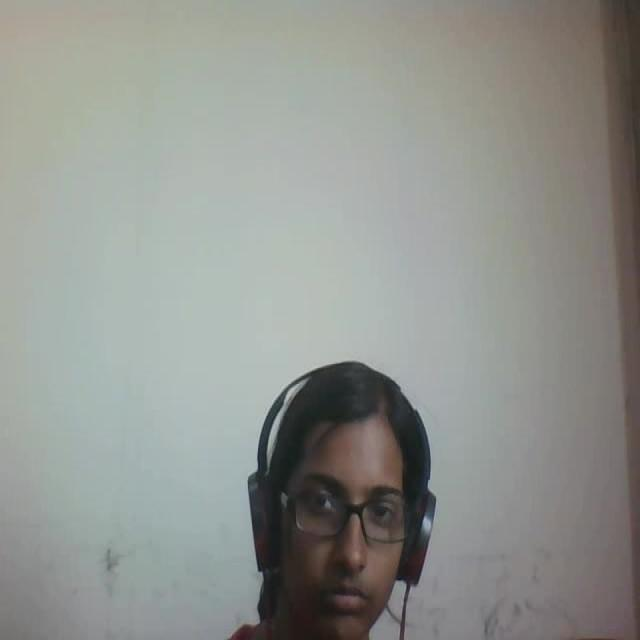Engaged: (222, 332, 454, 640)
